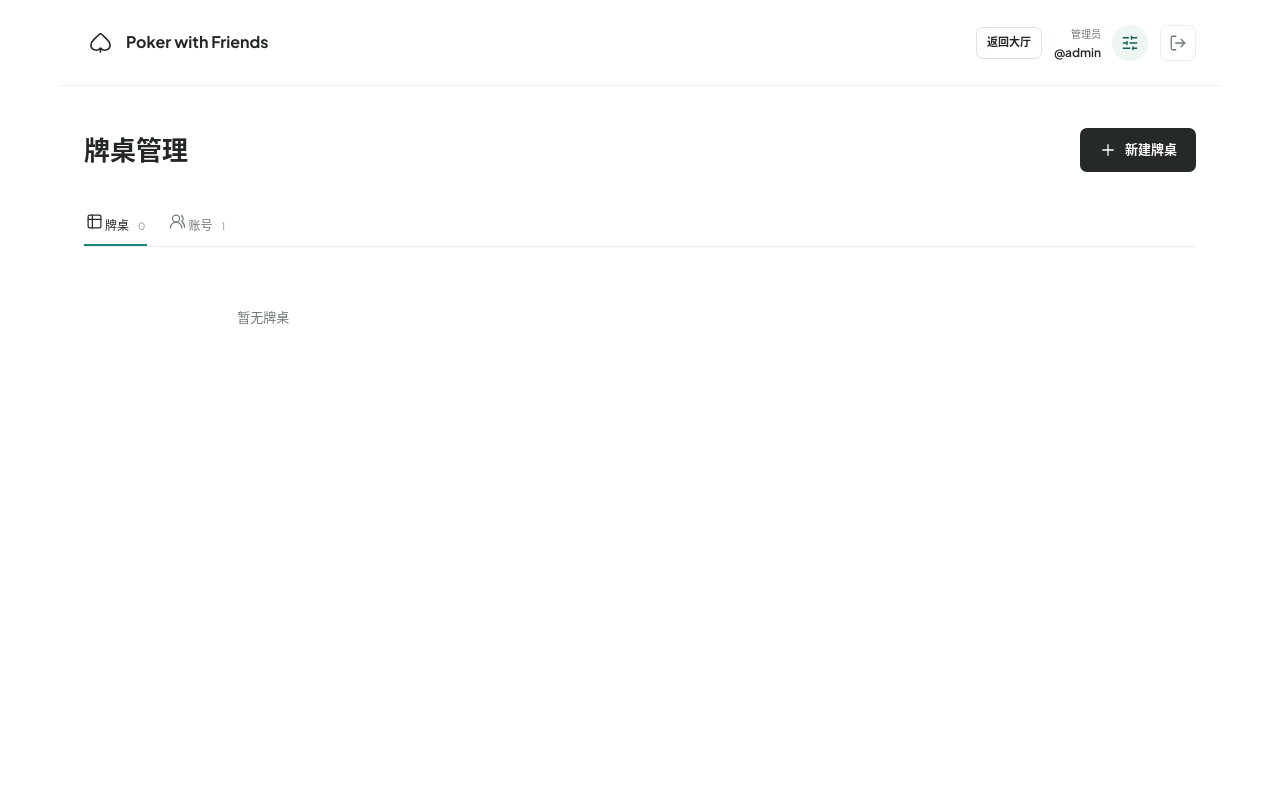
it: admin account deletion › retains the account and displays the server conflict so the admin can resolve it
This screenshot has width=1280, height=800.
Click the button "账号 1" at (197, 224), box [167,202,227,246]
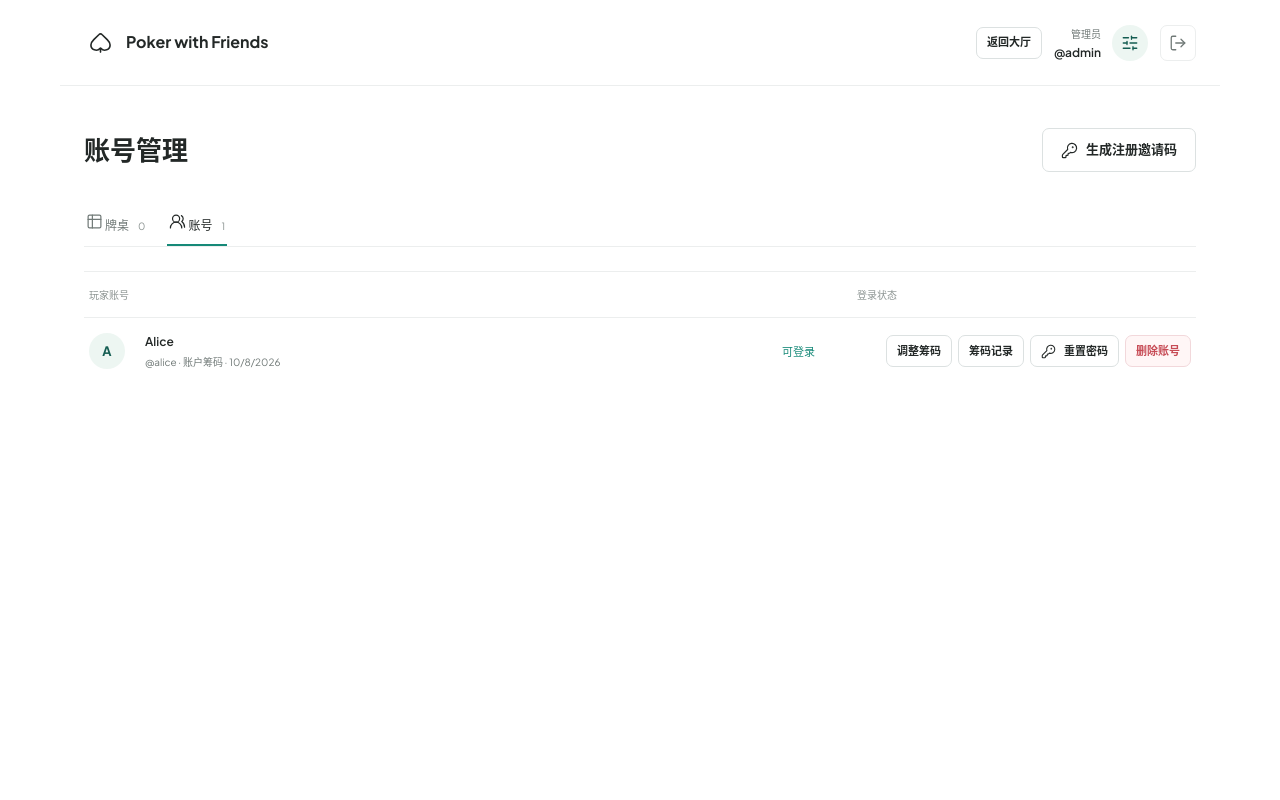
Click the button "删除账号" at (1158, 351), box [1125,335,1191,367]
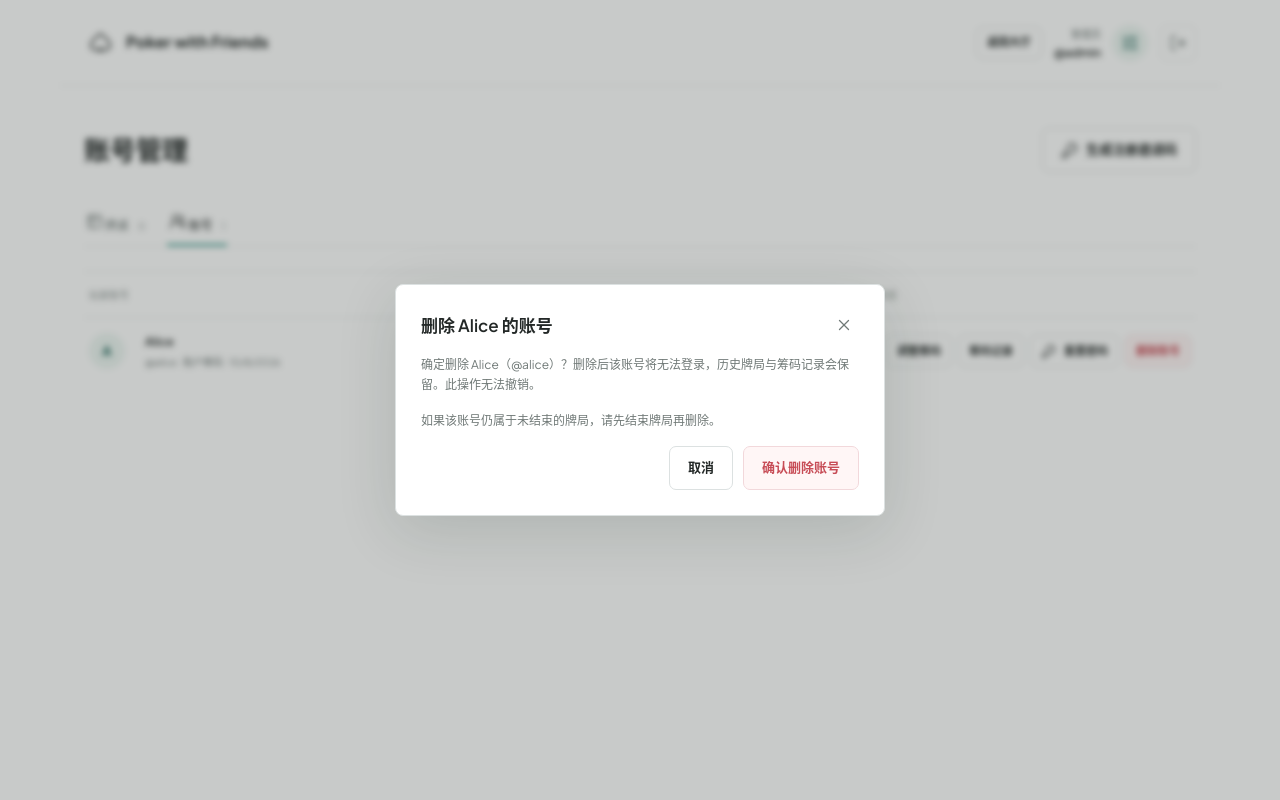
Click the button "确认删除账号" at (801, 468), box [743,446,859,490]
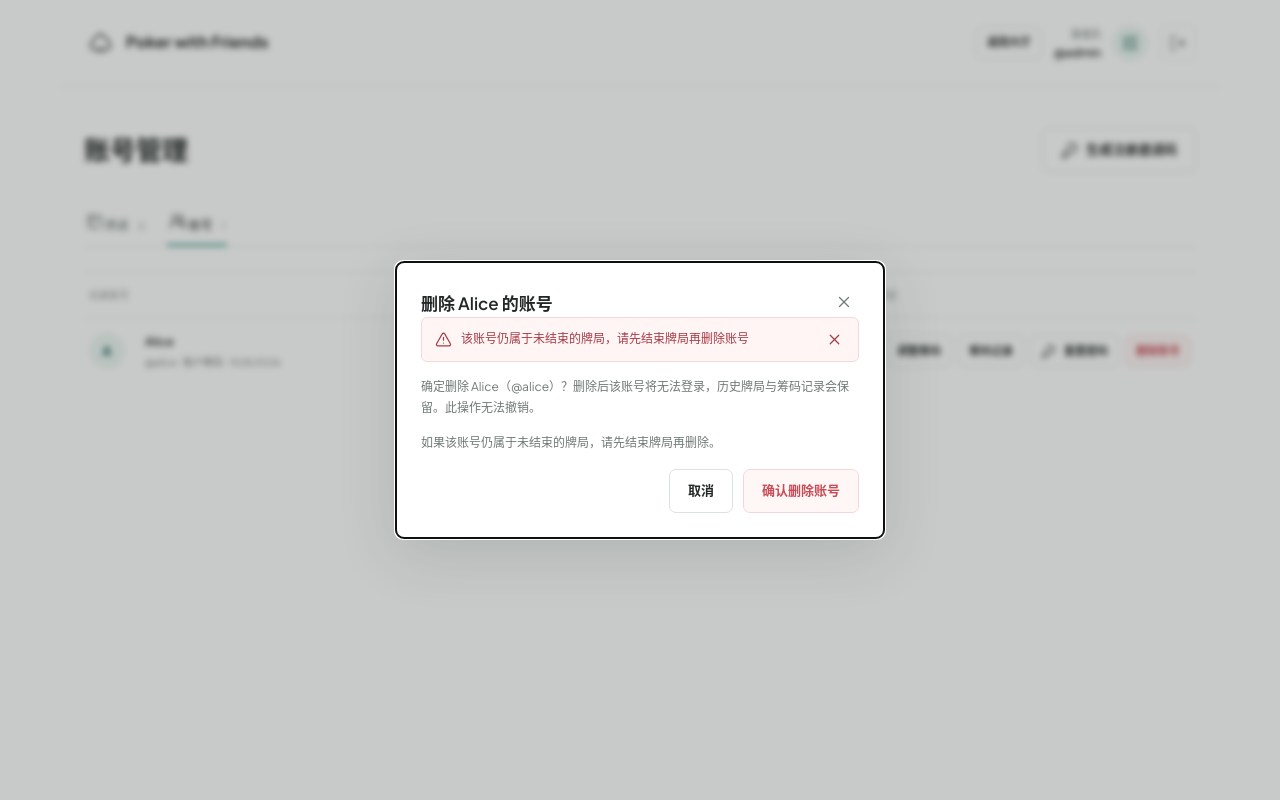
Check: the button "确认删除账号" is enabled, box [743,469,859,513]
Check: the message "该账号仍属于未结束的牌局，请先结束牌局再删除账号" is shown, box [421,317,859,362]
